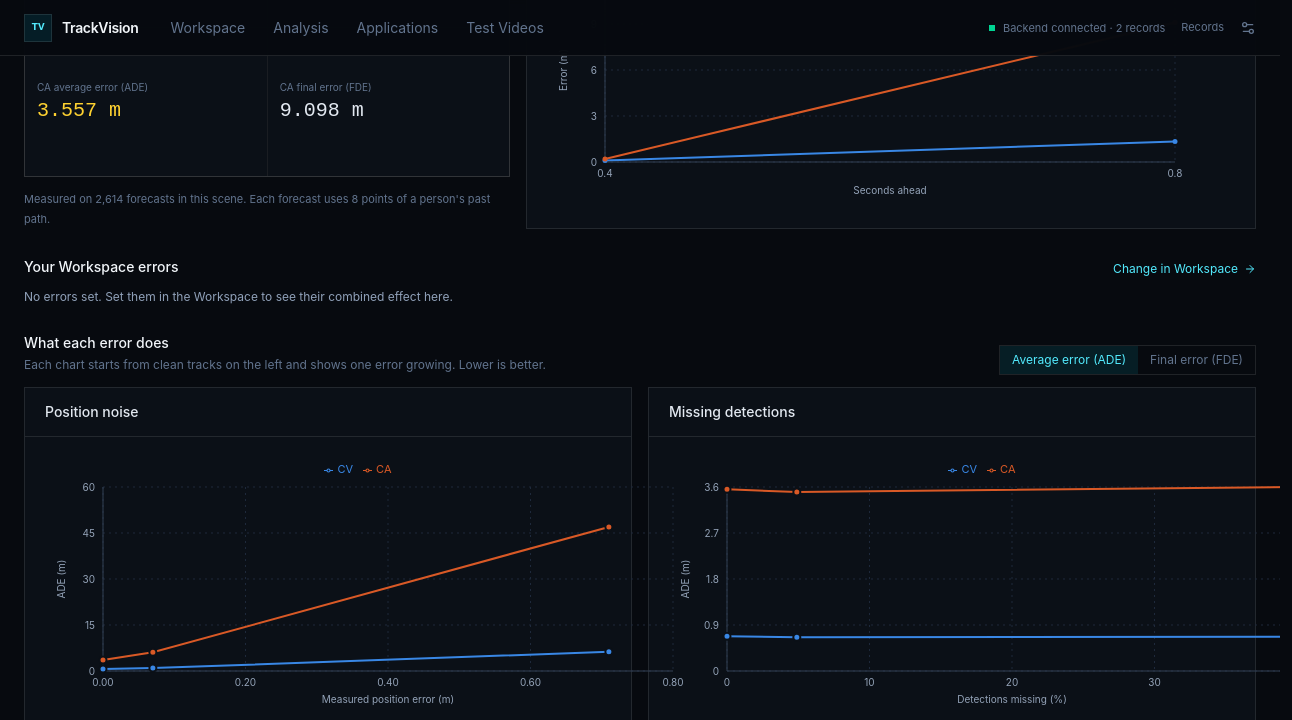
Test: analysis › every scene › flips the charts between ADE and FDE without calculating again
(page scrolled)
Expected: the element with test id "curve-A" is shown, [45,457,611,717]
Click the button "Final error (FDE)": (1197, 360) [1138,346,1255,374]
(page scrolled)
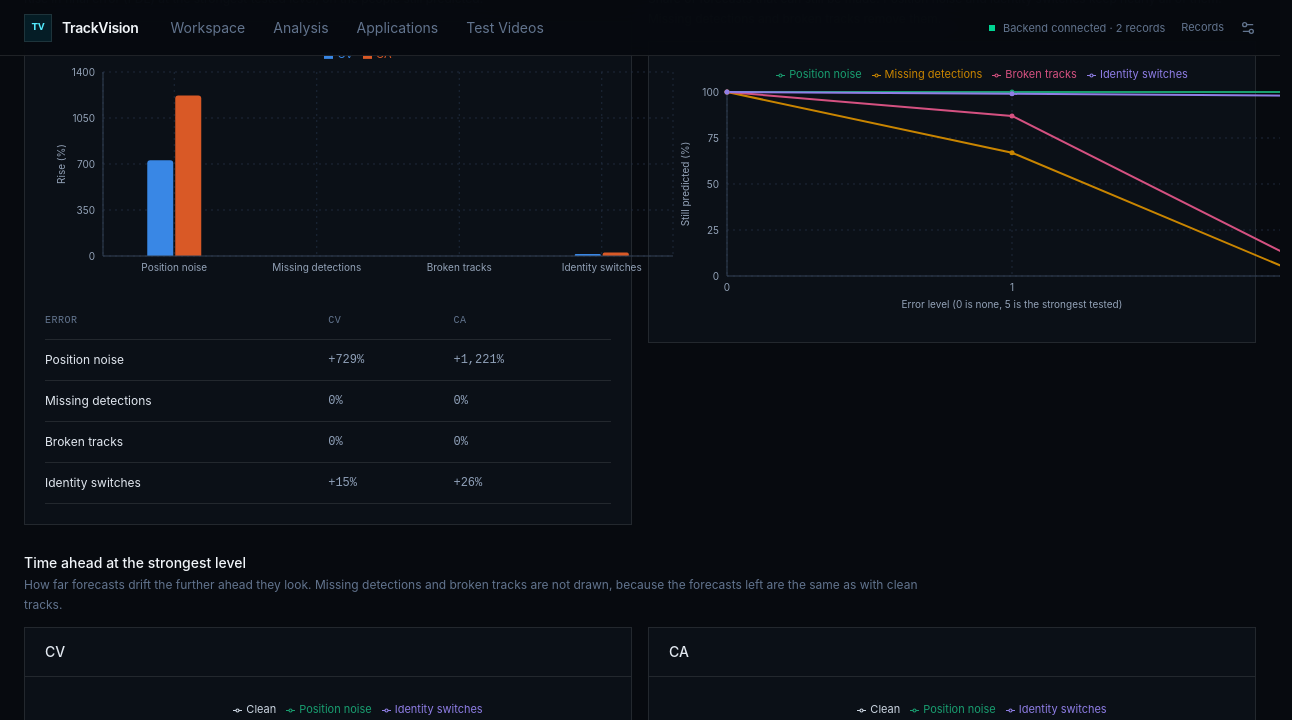
Now the text "+729%" is shown, box [328,340,454,381]
